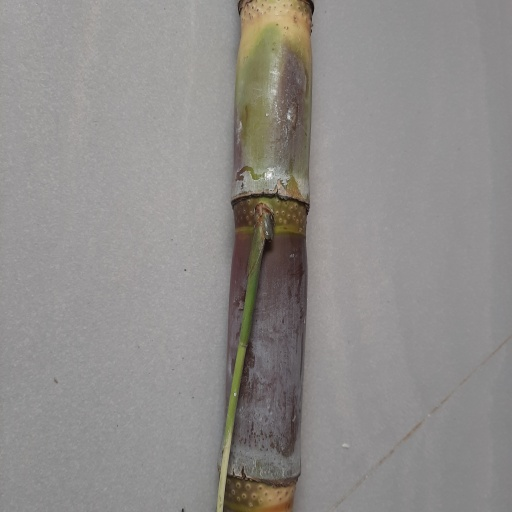Sprouted_Bud: (251, 203, 275, 258)
